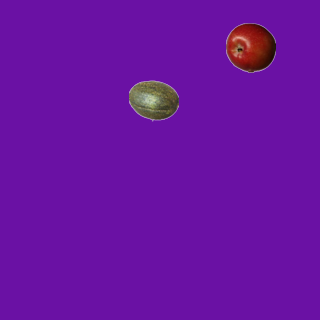Apple Braeburn: (225, 22, 275, 72)
Melon Piel de Sapo: (128, 75, 178, 125)
